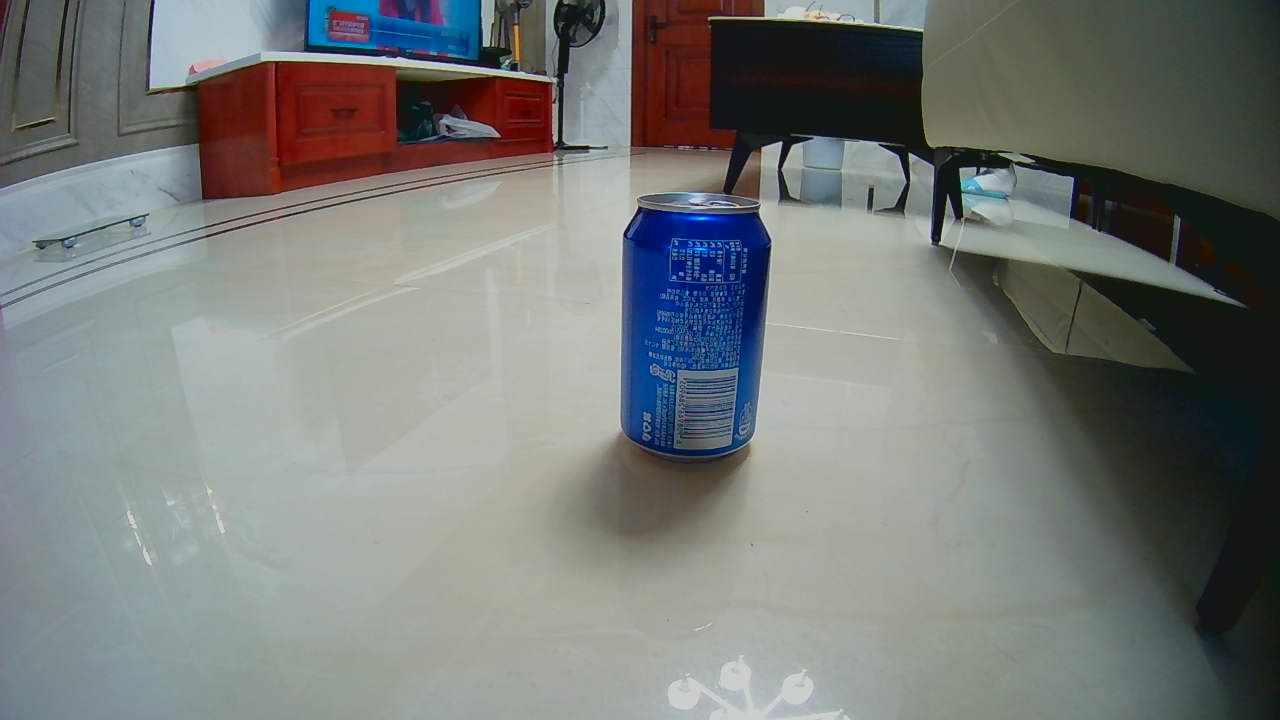pessi: (615, 190, 767, 458)
